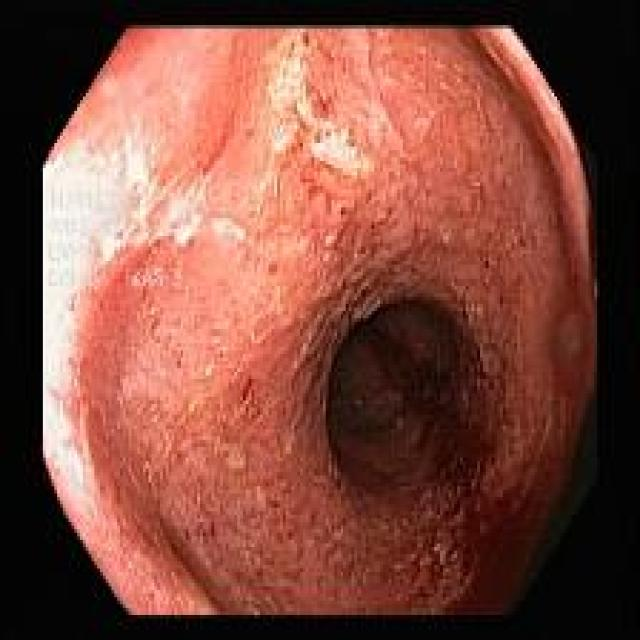ulcerative-colitis: (44, 28, 596, 615)
